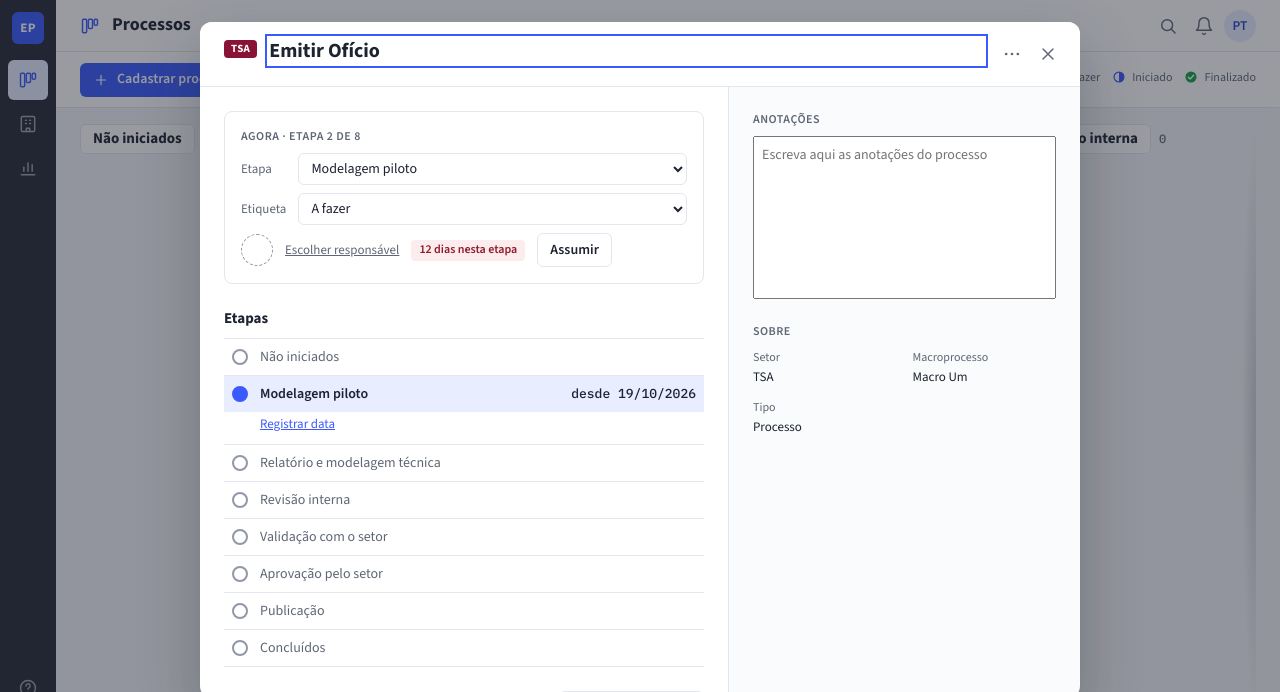
Test: [Enviar arquivos agora] é o botão principal e abre o envio da etapa que falta, sem mover nada
Select "Relatório e modelagem técnica" in the dropdown labelled "Etapa" at (493, 169), box [298,153,687,185]
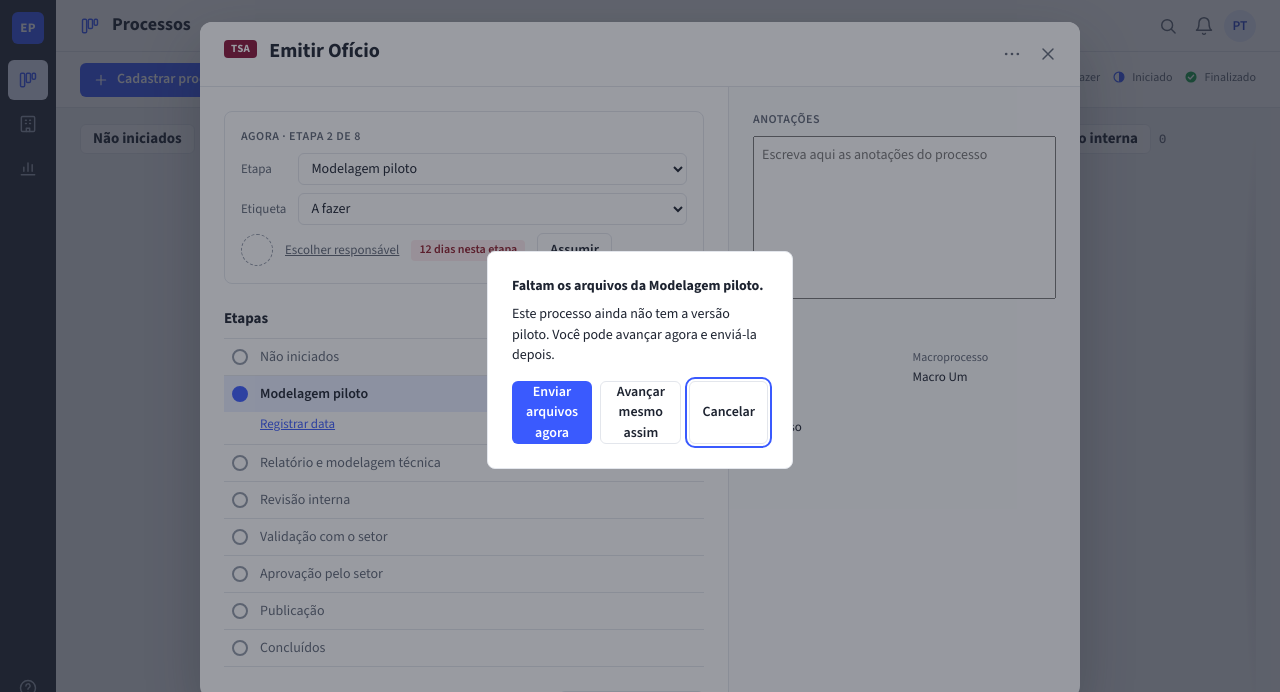
Click the button "Enviar arquivos agora" at (552, 413), box [512,381,592,444]
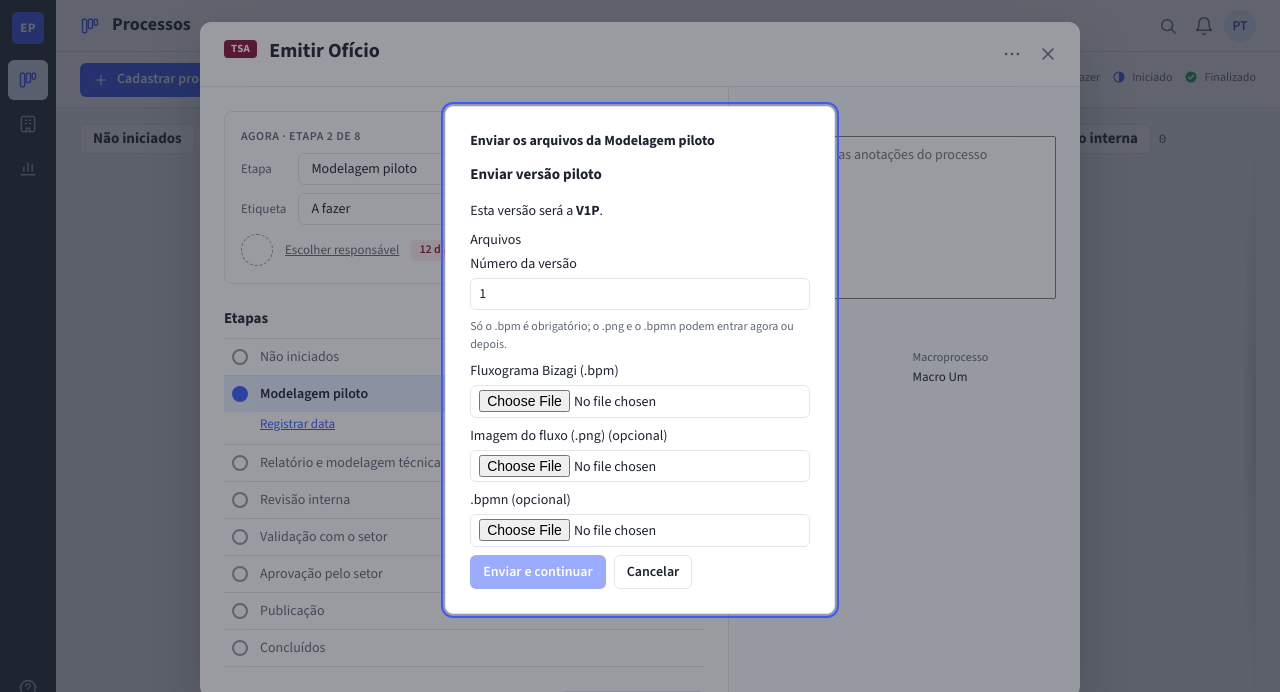
Check: the form "Enviar versão piloto" is shown, box [470,164,810,589]
Check: the button "Enviar e continuar" is disabled, box [470,555,606,589]
Check: the heading "Faltam os arquivos da Modelagem piloto." is gone
